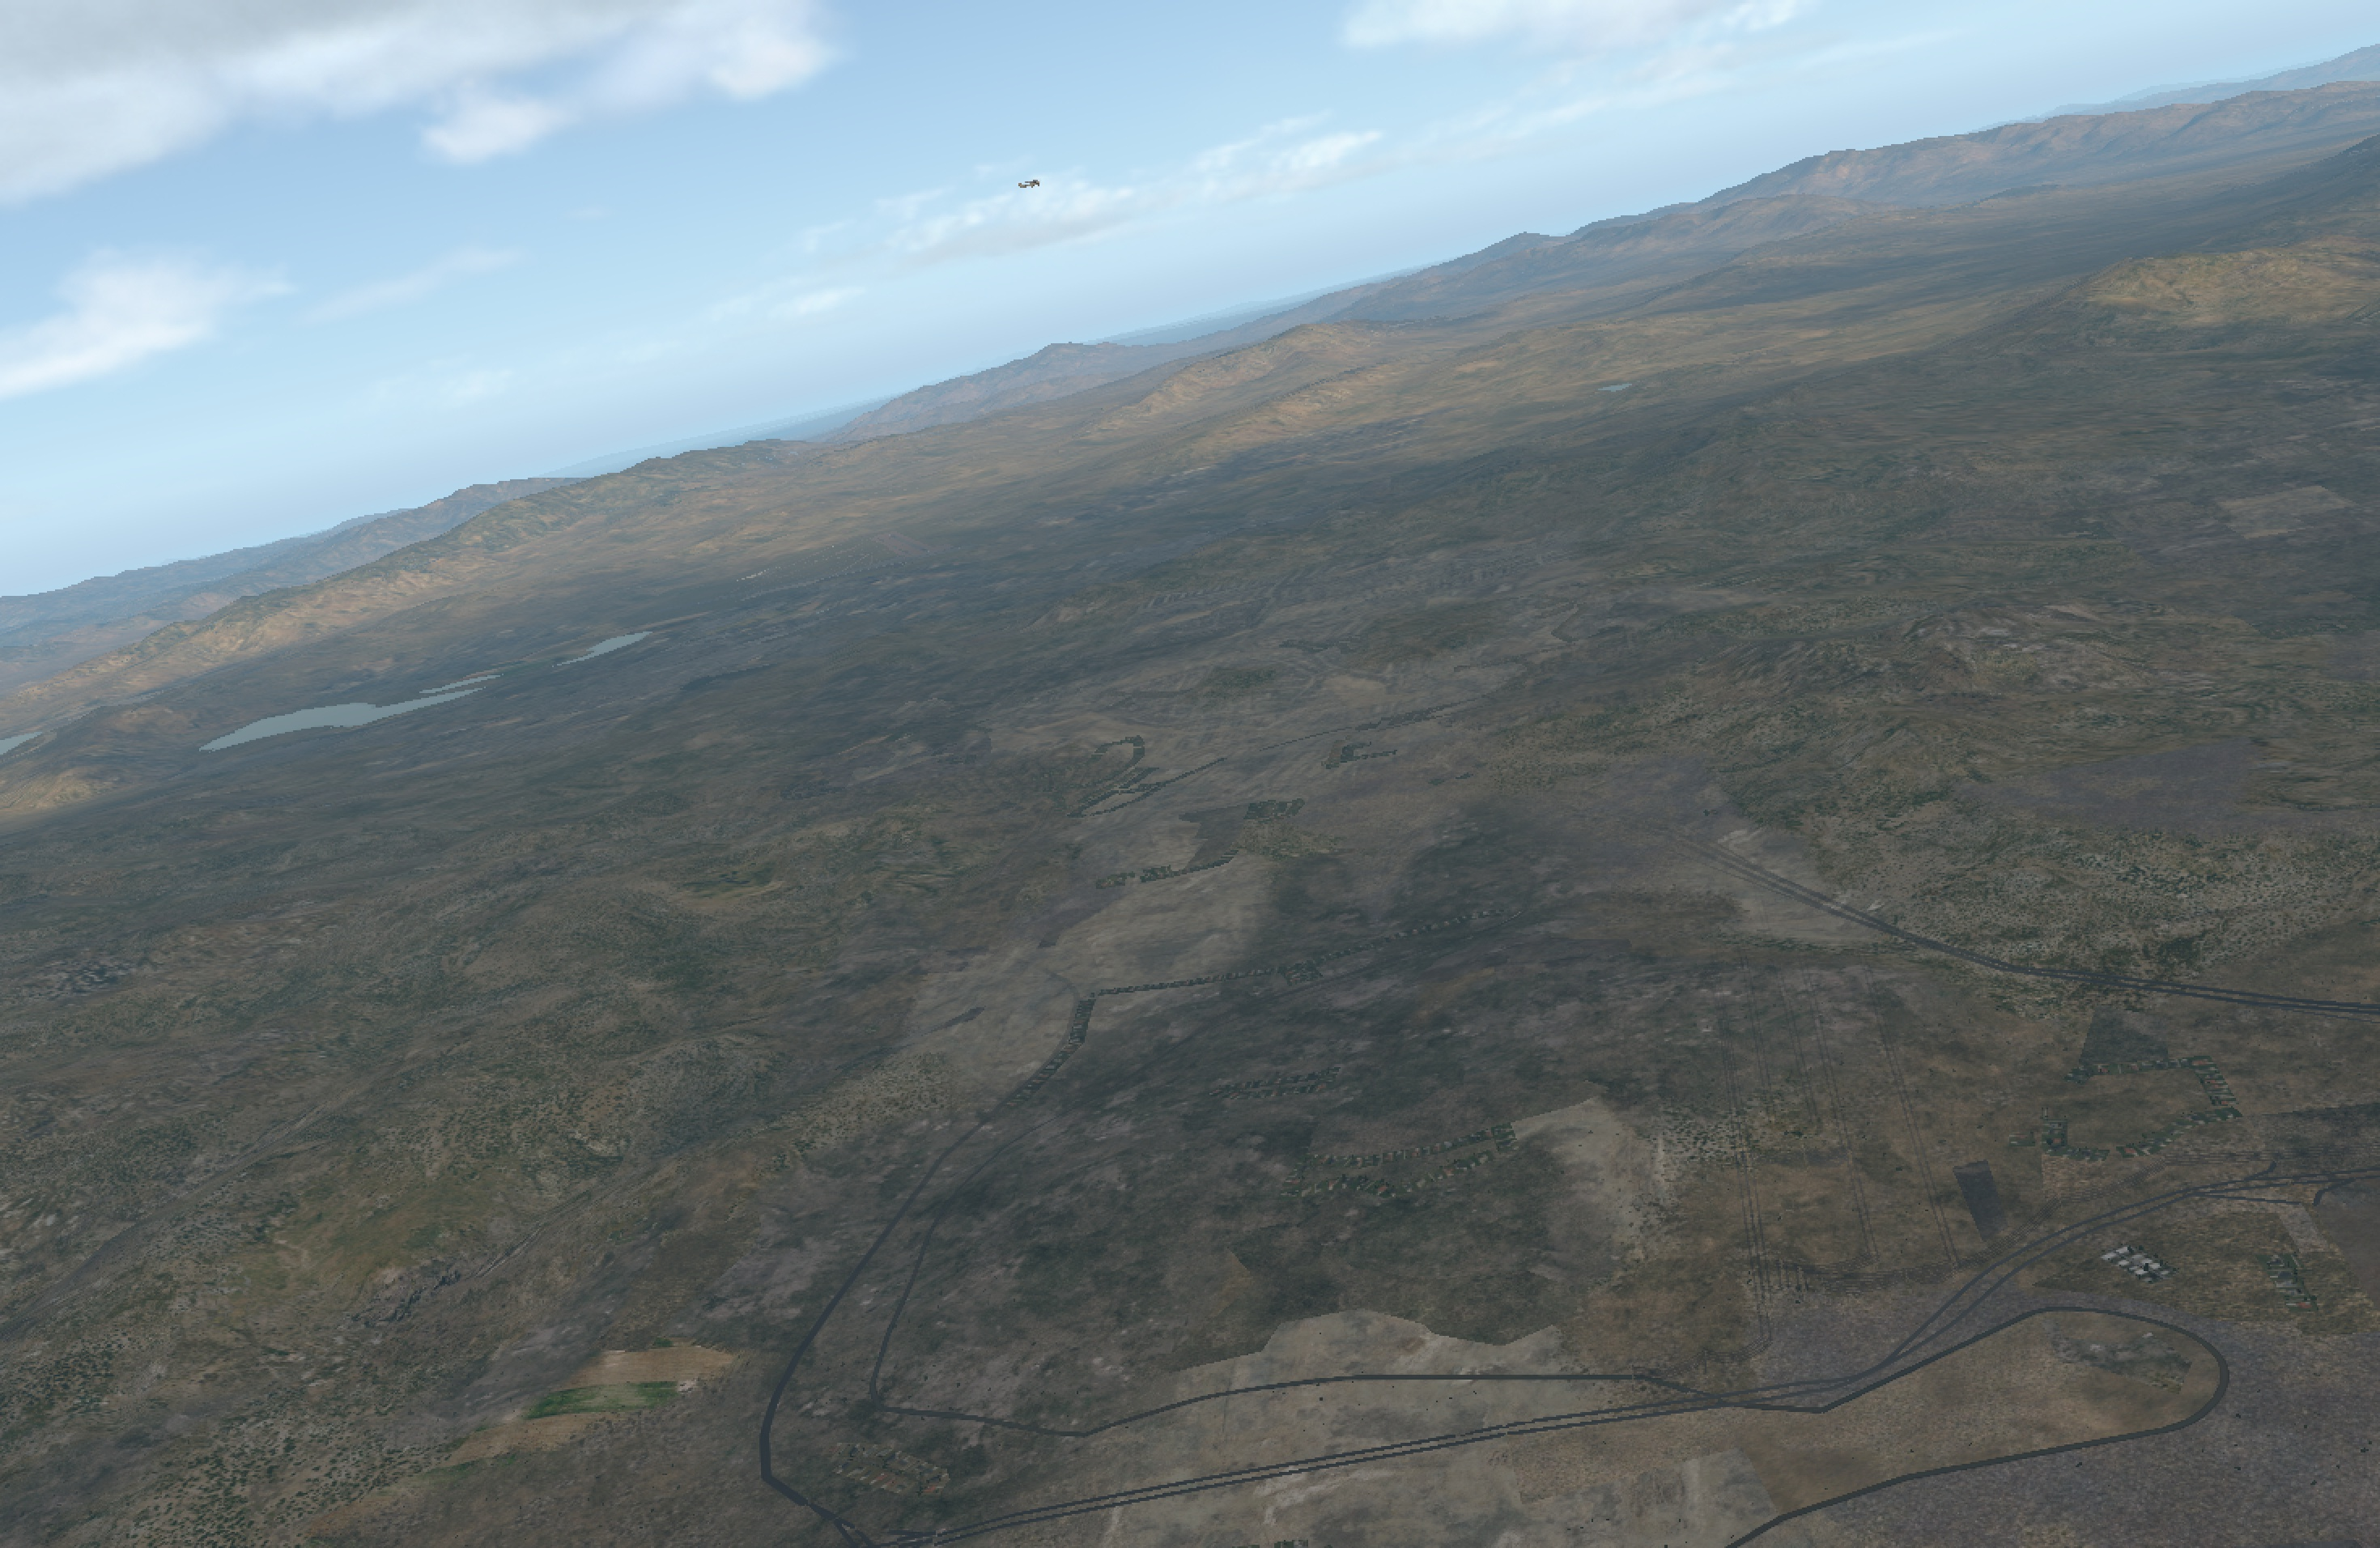aircraft: (1022, 179, 1046, 187)
